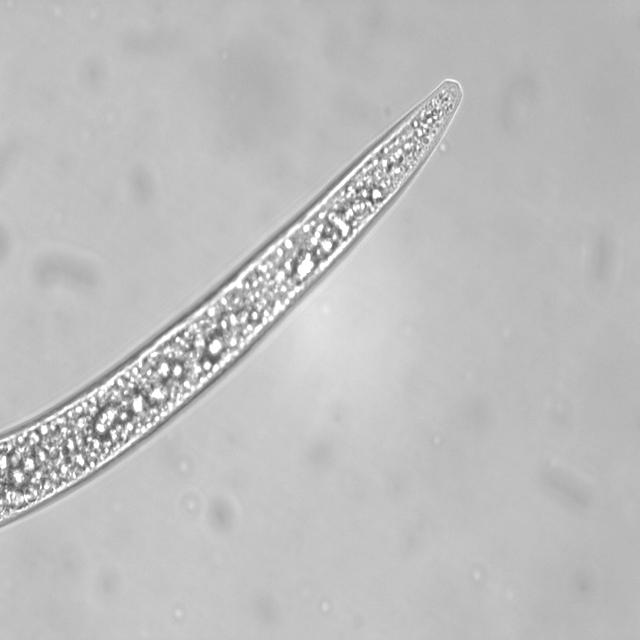Pratylenchus: (0, 70, 467, 528)
